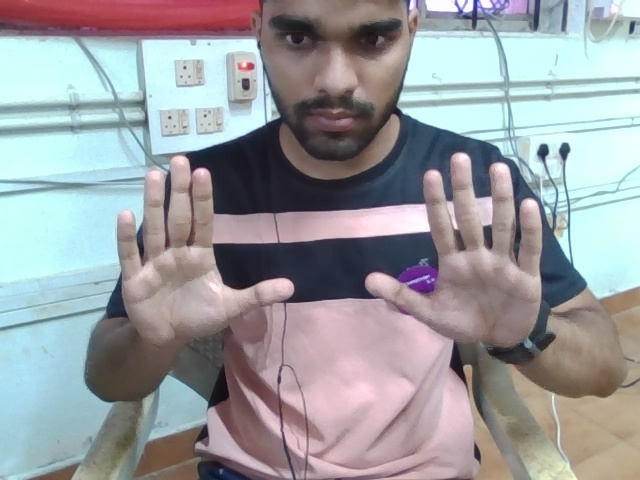All done: (106, 141, 570, 386)
